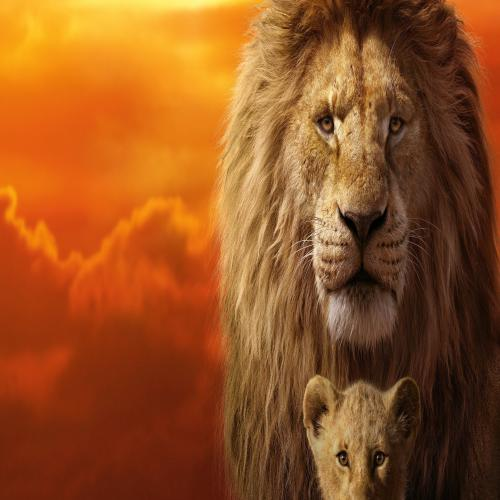lion-endangered: (224, 0, 500, 498), (298, 370, 425, 500)
